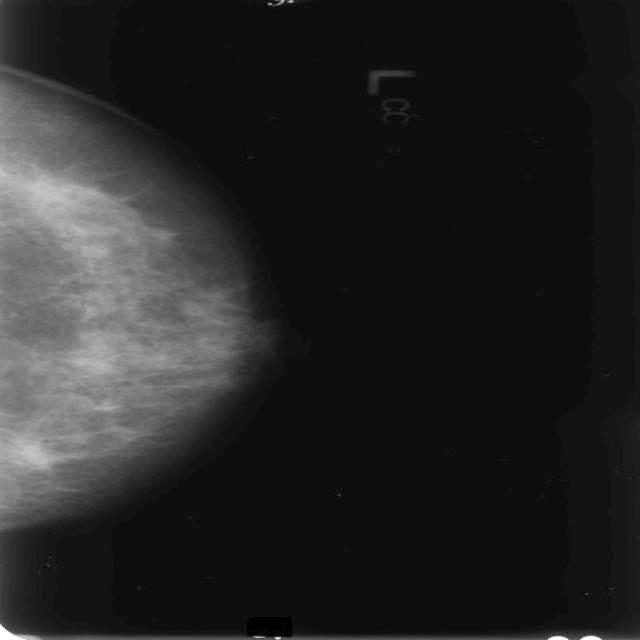tumour: (14, 438, 58, 470)
